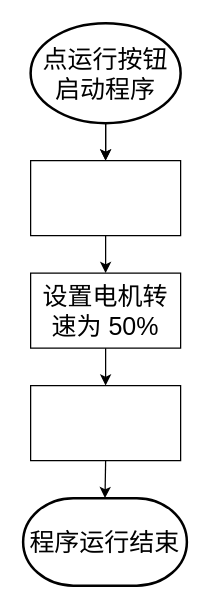
The diagram is 209 pixels wide and 608 high, and some of its shapes have lost their labels. Here are the shapes that lost their labels. From the top down, the centre of each, then its label:
At point (105, 197): "设置运行电机为 A+B".
At point (105, 422): "向 20 移动 100 厘米".
